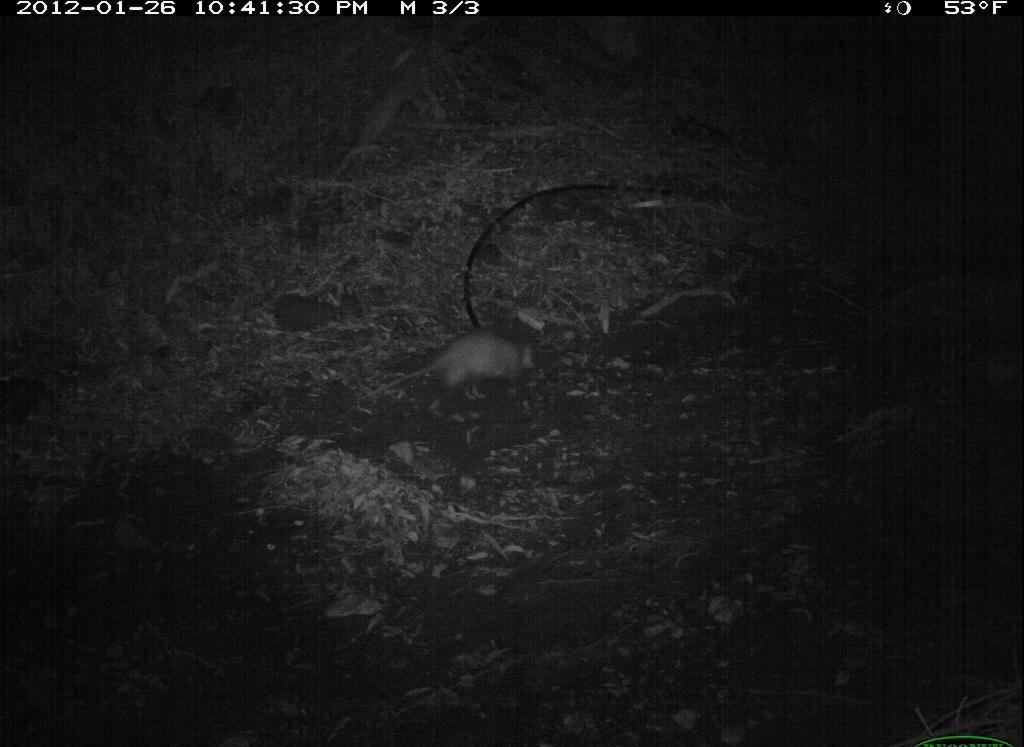opossum: (359, 314, 553, 427)
